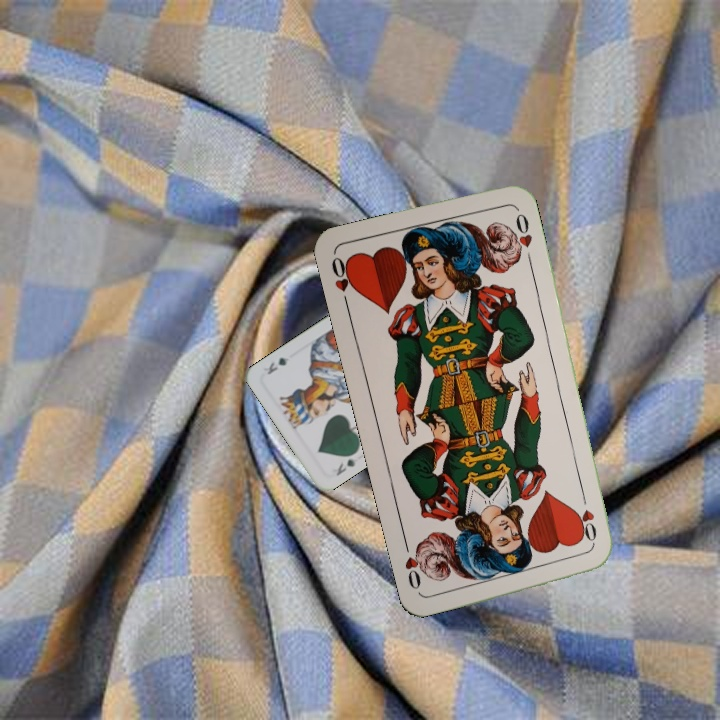GK: (332, 455, 358, 478)
HO: (327, 252, 358, 310), (577, 489, 600, 548)
